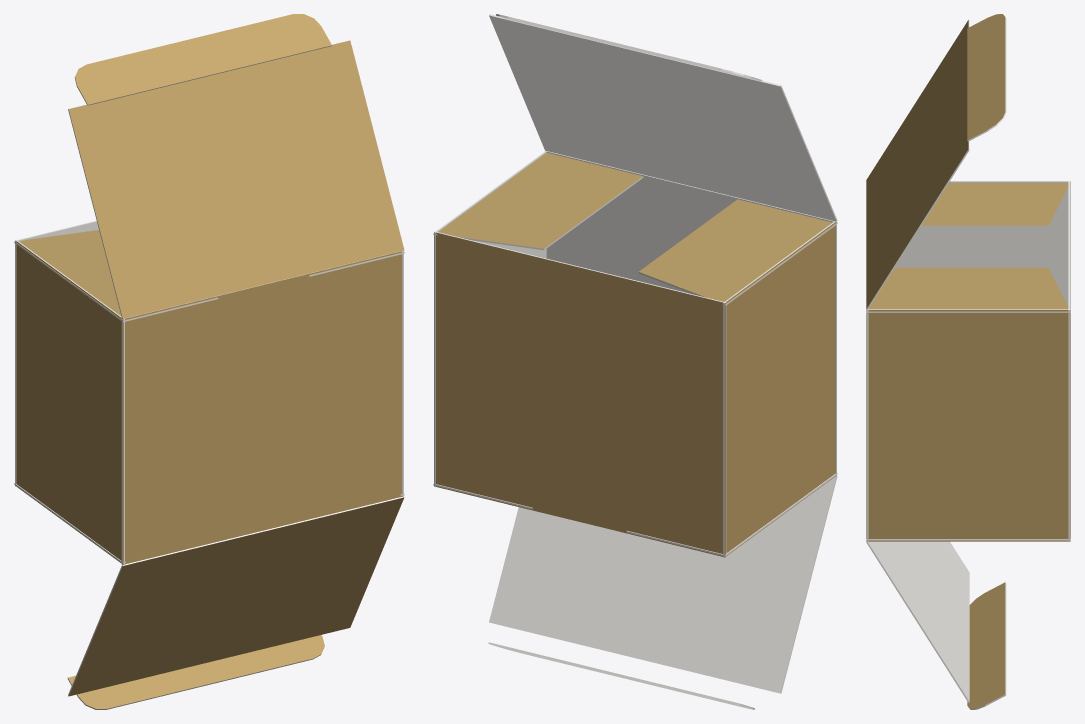
The picture shows the model from 3 angles, left to right: view 1: azimuth 30°, elevation 25°; view 2: azimuth 150°, elevation 25°; view 3: azimuth 270°, elevation 25°; orthographic projection. The views are drawn at different scales.
Visible parts, largest first — view 1: Packive_Box_fefco0210; view 2: Packive_Box_fefco0210; view 3: Packive_Box_fefco0210.
Boxes of the visible parts, <box> form: Packive_Box_fefco0210: <box>14,14,404,709</box>; Packive_Box_fefco0210: <box>433,14,837,709</box>; Packive_Box_fefco0210: <box>866,14,1070,709</box>.
Size of the model in its own units: 0.3 by 0.6422 by 0.2.
Materials: 24 (12 with a texture image).
